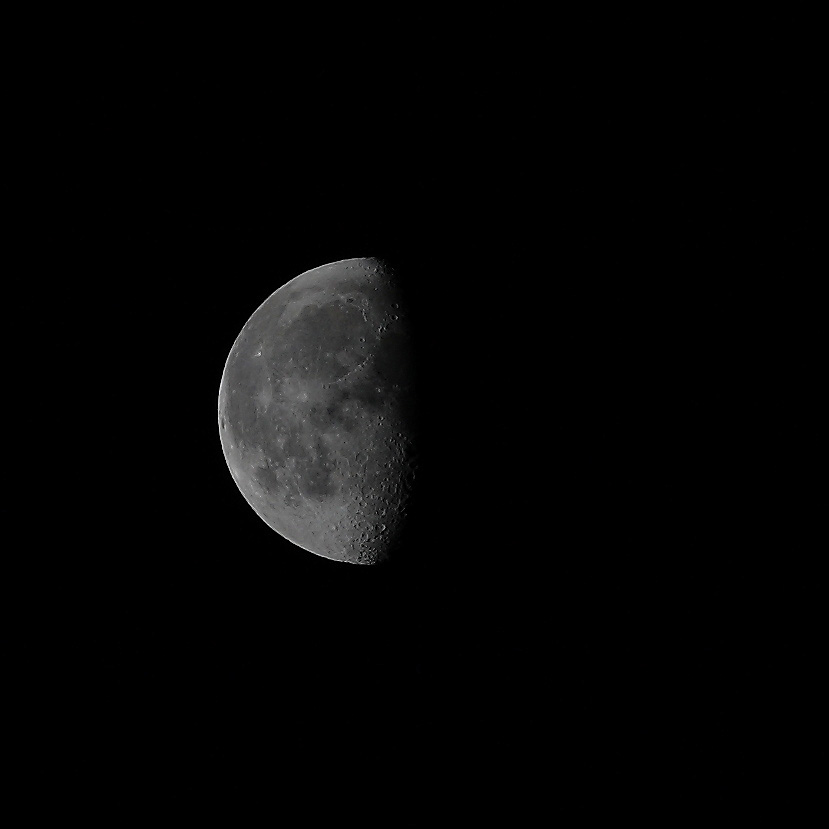crater: (294, 388, 316, 407), (354, 451, 373, 468), (371, 520, 389, 536), (355, 334, 368, 347), (388, 312, 401, 324), (378, 414, 386, 423)
